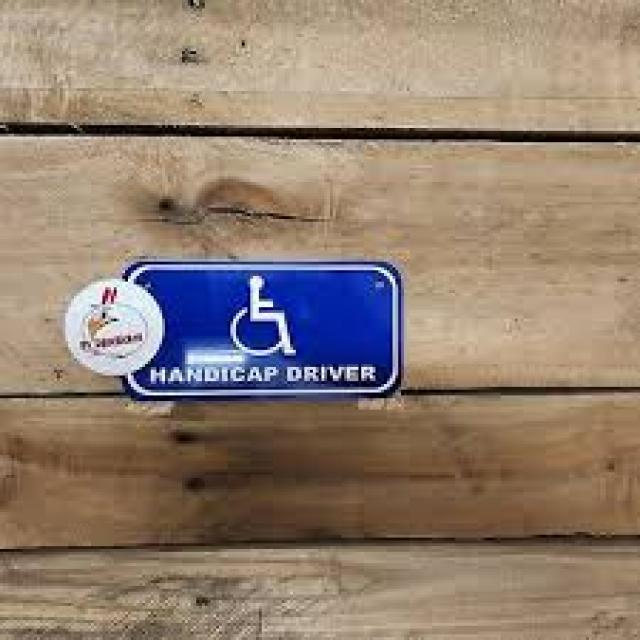car-handicap-placard: (232, 275, 297, 356)
